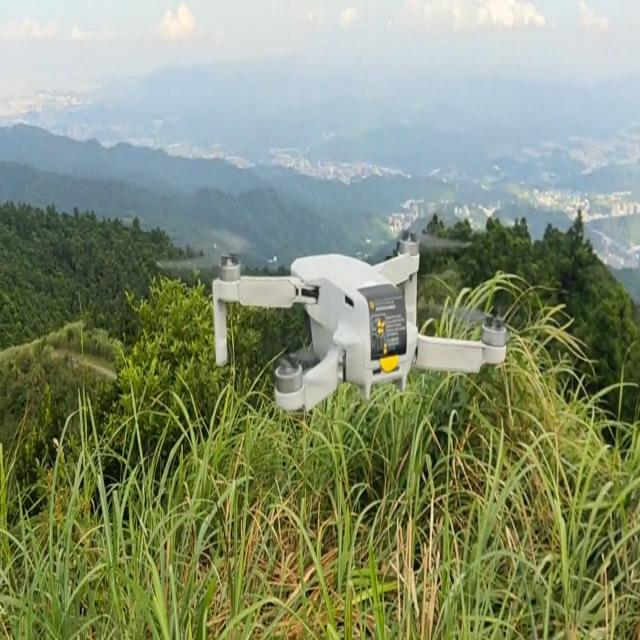Drone: (208, 230, 508, 414)
